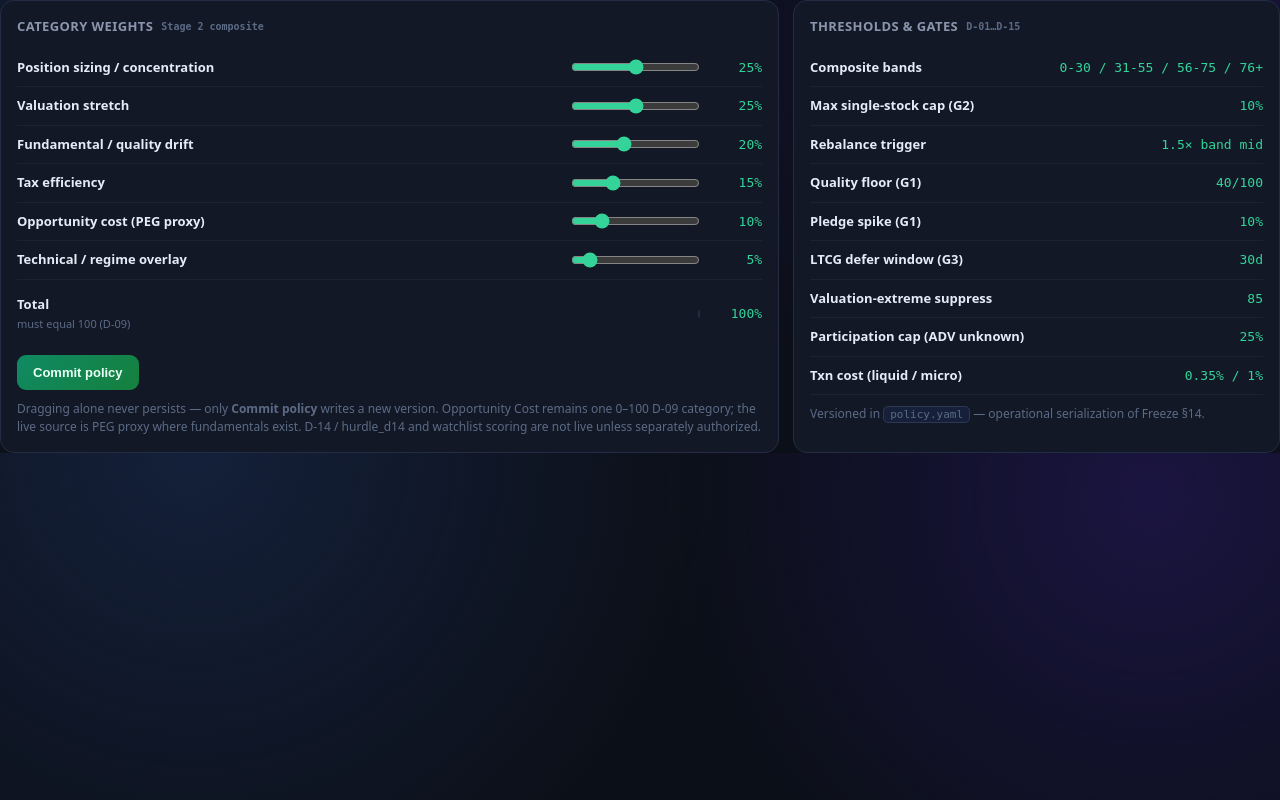
Test: WeightsView — D-09 weight validation › blocks a total above 100 as well as below
Set the slider in the row of "Technical / regime overlay" to "6" at [593, 260], box left=571, top=252, right=700, bottom=268
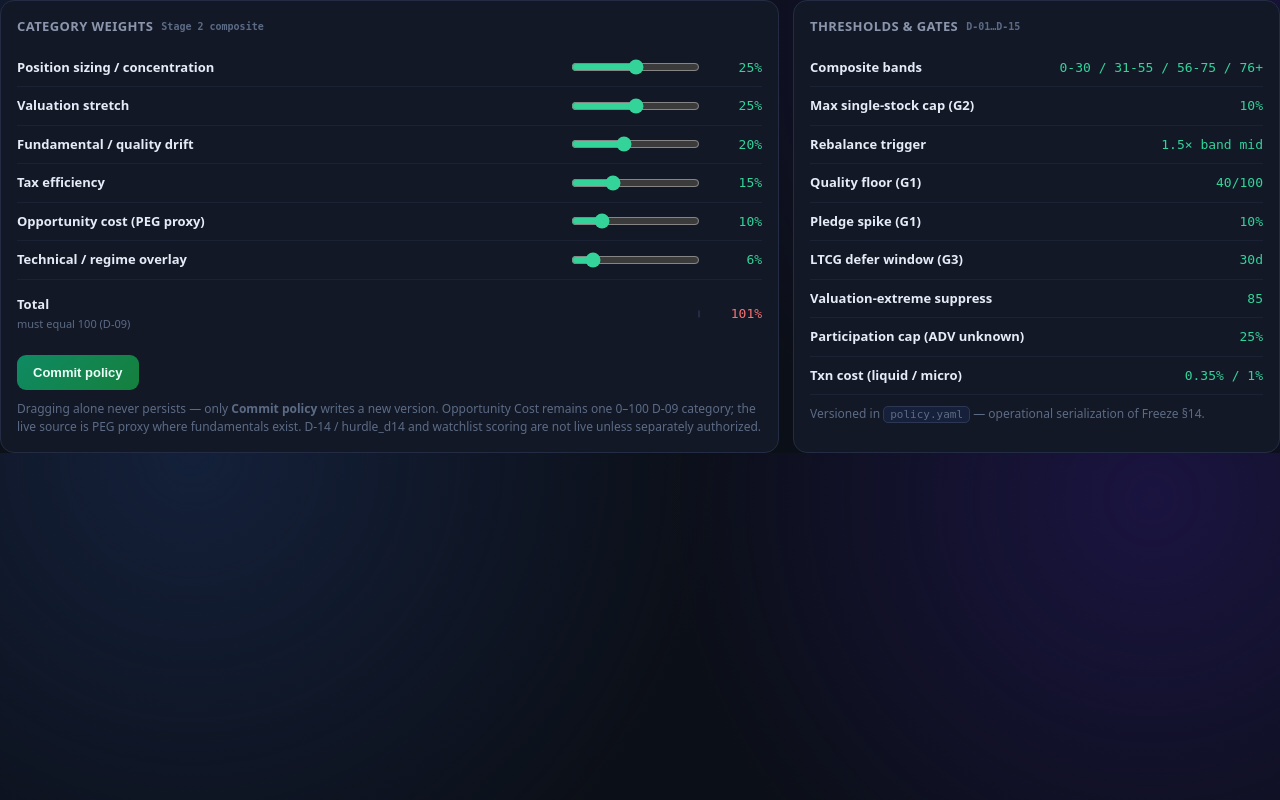
Expected: the text "101%" is shown, left=731, top=306, right=762, bottom=321
Click the button "Commit policy" at [78, 372], box left=17, top=354, right=139, bottom=390
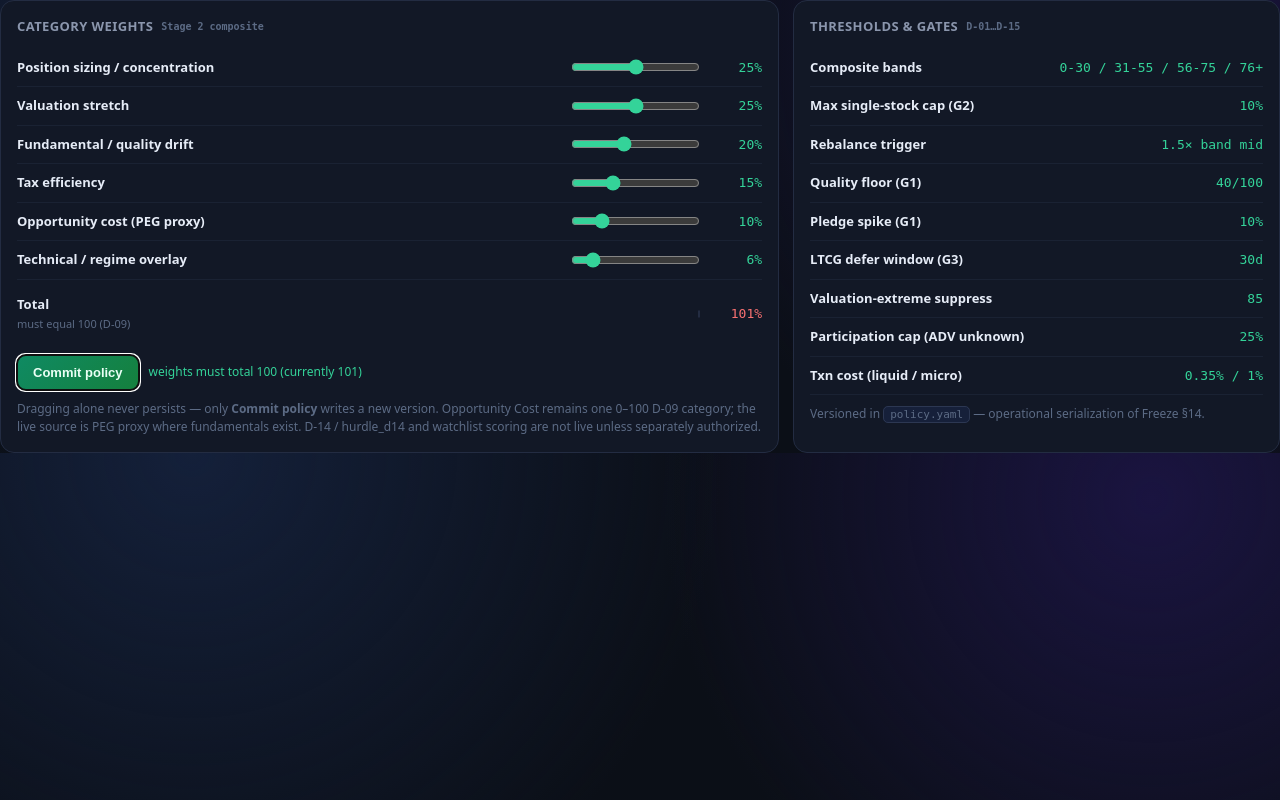
Expected: the text "weights must total 100 (currently 101)" is shown, left=149, top=363, right=362, bottom=381
